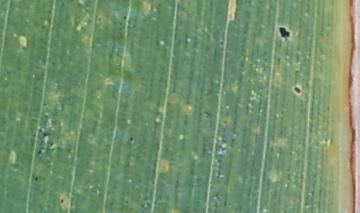tarspot: (278, 25, 291, 38), (292, 86, 302, 94), (128, 136, 135, 143), (60, 198, 65, 204), (122, 15, 128, 20), (43, 131, 48, 137), (37, 149, 42, 155), (34, 176, 39, 181)
